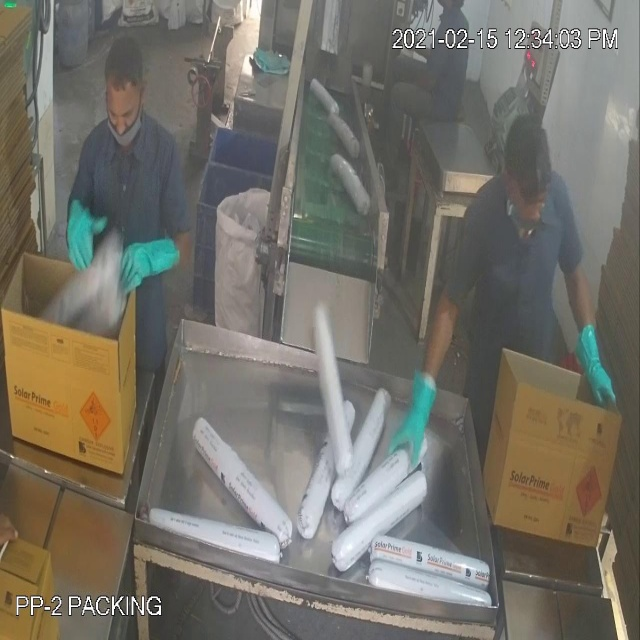Guantes: (113, 215, 190, 309), (383, 366, 444, 479), (572, 305, 621, 417), (61, 198, 104, 284)
